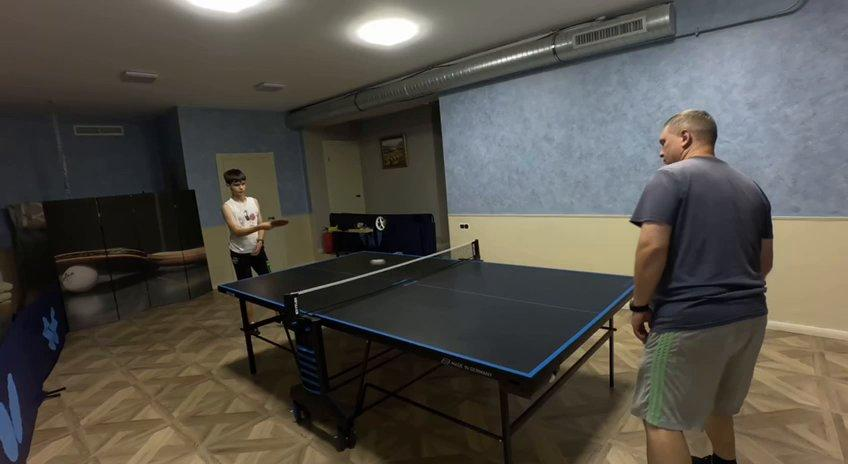Ball: (369, 258, 386, 266)
Net: (283, 240, 481, 321)
Player1: (221, 168, 286, 279)
Player2: (630, 111, 773, 463)
Table: (222, 253, 640, 377)
